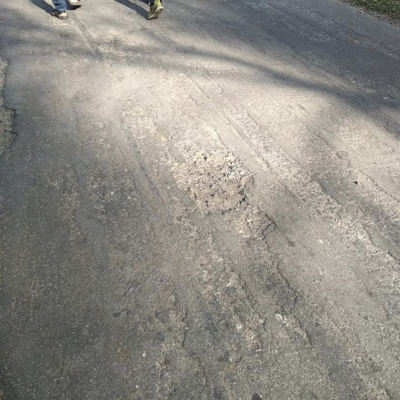pothole: (168, 150, 254, 214), (237, 208, 277, 239)
